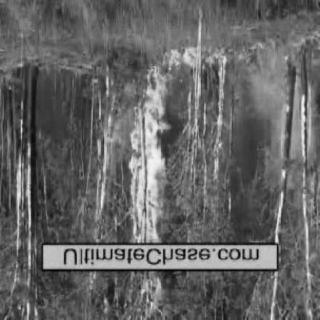Fire: (118, 42, 221, 310)
